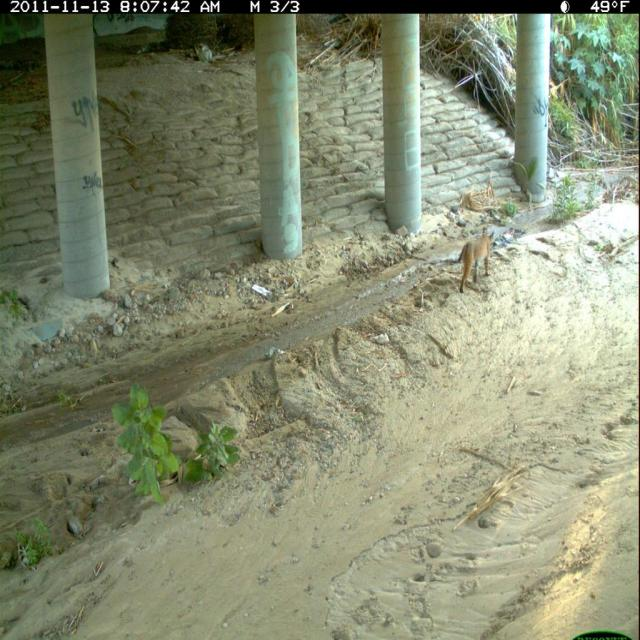bobcat: (456, 224, 500, 299)
